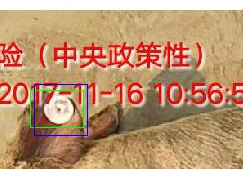text: (30, 90, 83, 127)
